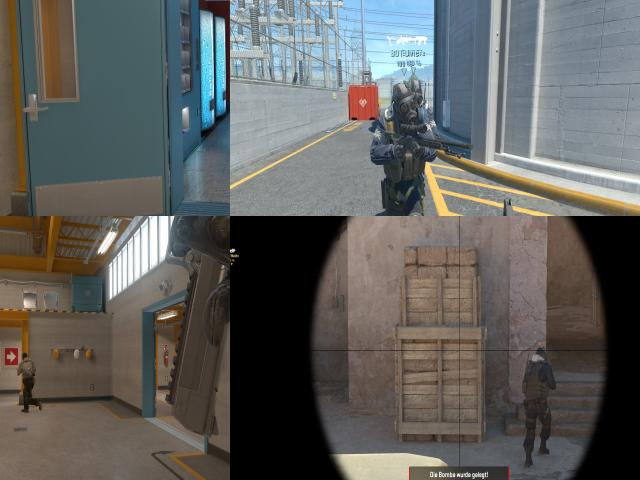CT: (381, 87, 416, 216), (410, 77, 431, 216), (526, 348, 554, 449)
CT-Head: (390, 84, 412, 124), (410, 80, 423, 110), (535, 350, 546, 360)
T: (21, 351, 36, 408)
T-Head: (20, 352, 29, 363)
